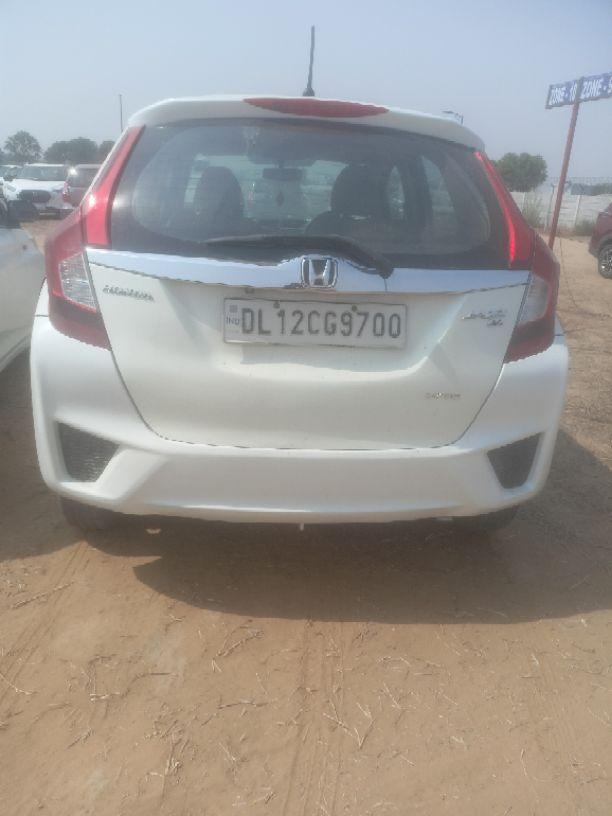license_plate: (221, 295, 408, 349)
